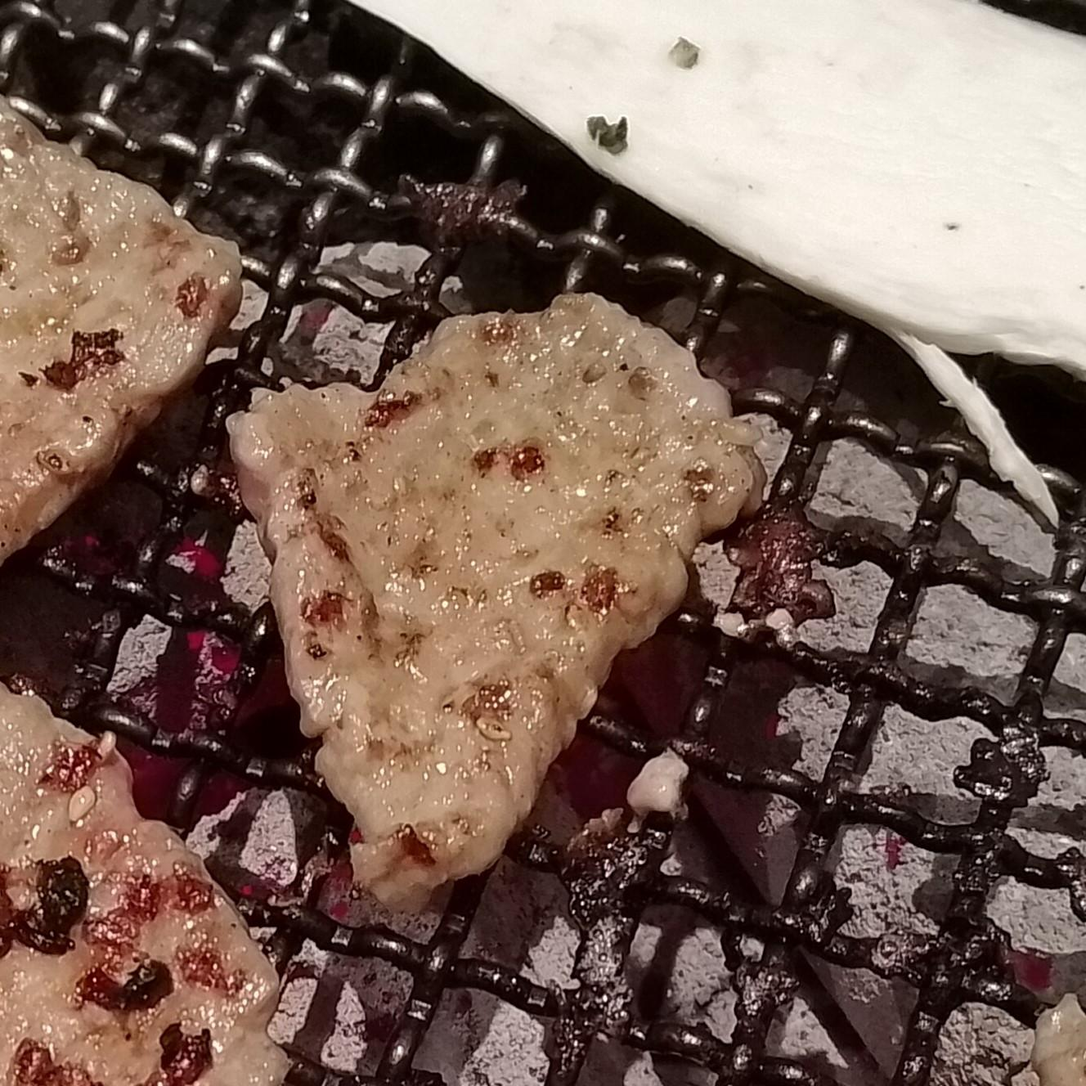Overcooked: (0, 683, 295, 1085)
Well-Cooked: (222, 295, 785, 922), (0, 95, 243, 570)
